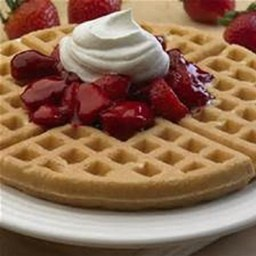background: (0, 0, 102, 84)
